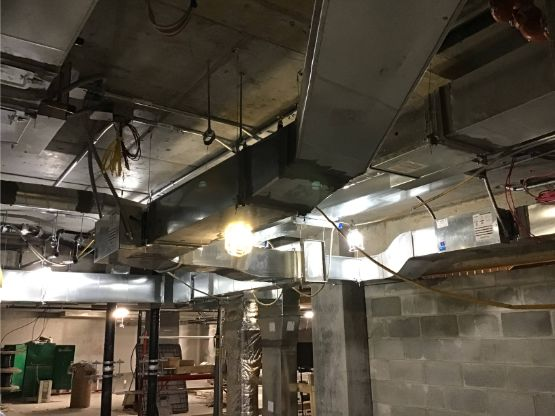Duct: (88, 1, 471, 275), (327, 24, 555, 198), (174, 193, 555, 286), (1, 258, 284, 312), (210, 278, 306, 414)
